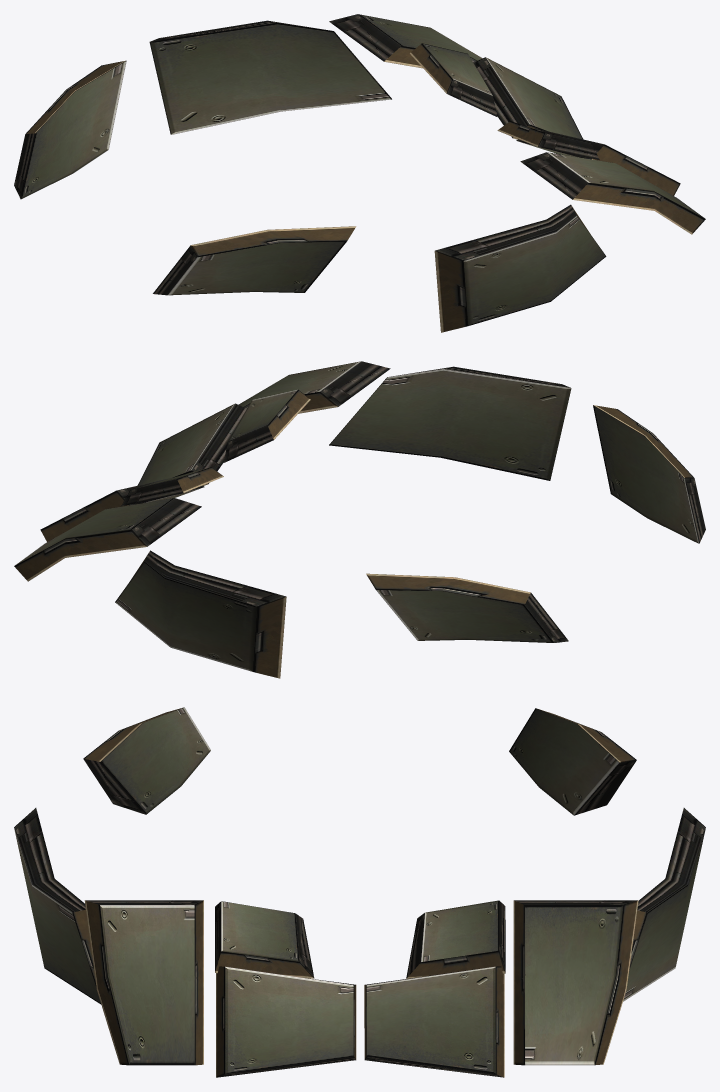
File: constructor_unit_plating.obj
3 renders of one model, top to bottom at view 1: azimuth 30°, elevation 25°; view 2: azimuth 150°, elevation 25°; view 3: azimuth 270°, elevation 25°, orthographic. The views are drawn at different scales.
Parts seen in each view (by area): view 1: polySurface45; view 2: polySurface45; view 3: polySurface45.
Part boxes in pixels (x1,y1,x2,y2): polySurface45: (14,14,705,332); polySurface45: (14,361,705,678); polySurface45: (14,707,705,1077).
Size of the model in its own units: 37.65 by 7.19 by 37.13.
Materials: 1 (1 with a texture image).
